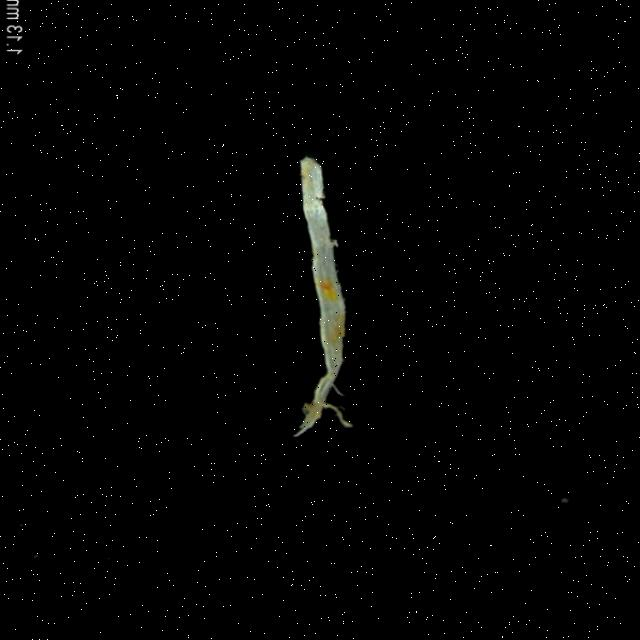Fibre: (270, 152, 364, 442)
